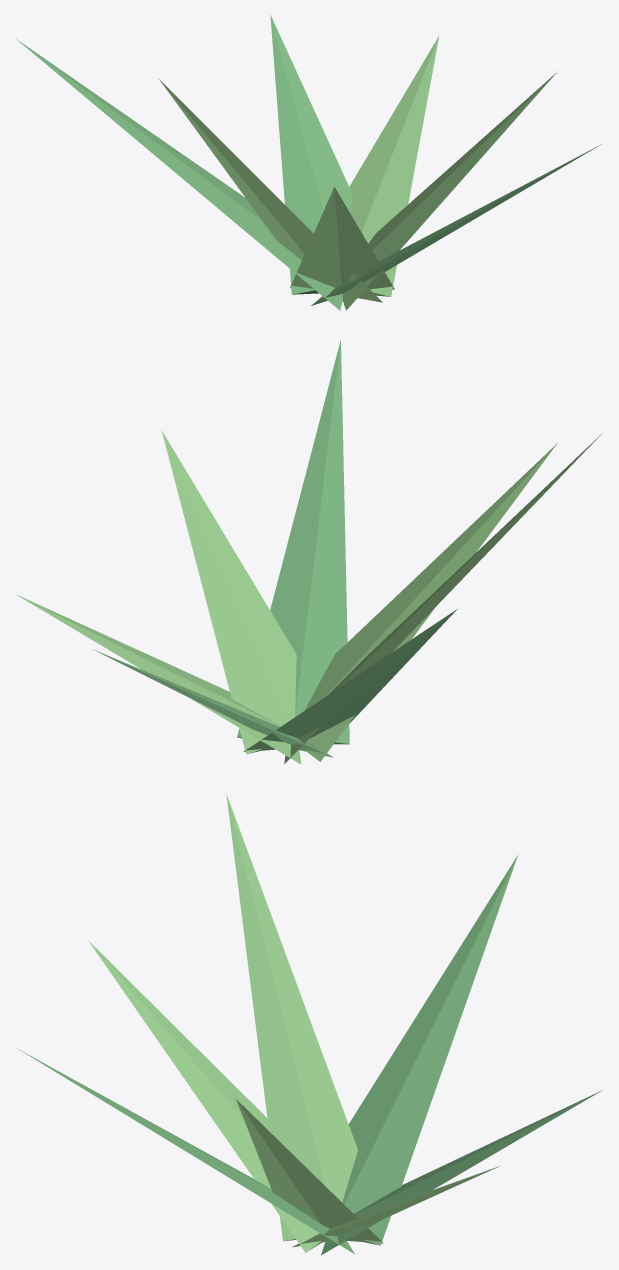
The model's file is samambaia_0.fbx.
3 views of the same model, one above another, from view 1: azimuth 30°, elevation 25°; view 2: azimuth 150°, elevation 25°; view 3: azimuth 270°, elevation 25° (orthographic). The views are drawn at different scales.
Visible parts, largest first — view 1: samambaia_0~Fronde 0@leafdark, samambaia_0~Fronde 1@fern, samambaia_0~Fronde 6@leafdark, samambaia_0~Fronde 4@fern, samambaia_0~Fronde 2@fern, samambaia_0~Fronde 5@fern, samambaia_0~Fronde 3@leafdark; view 2: samambaia_0~Fronde 3@leafdark, samambaia_0~Fronde 2@fern, samambaia_0~Fronde 4@fern, samambaia_0~Fronde 6@leafdark, samambaia_0~Fronde 1@fern, samambaia_0~Fronde 5@fern, samambaia_0~Fronde 0@leafdark; view 3: samambaia_0~Fronde 5@fern, samambaia_0~Fronde 6@leafdark, samambaia_0~Fronde 4@fern, samambaia_0~Fronde 2@fern, samambaia_0~Fronde 0@leafdark, samambaia_0~Fronde 3@leafdark, samambaia_0~Fronde 1@fern.
Part boxes in pixels (x1,y1,x2,y2): samambaia_0~Fronde 0@leafdark: (270, 14, 352, 294); samambaia_0~Fronde 1@fern: (349, 36, 439, 296); samambaia_0~Fronde 6@leafdark: (15, 38, 342, 310); samambaia_0~Fronde 4@fern: (290, 186, 394, 289); samambaia_0~Fronde 2@fern: (342, 71, 557, 310); samambaia_0~Fronde 5@fern: (158, 78, 382, 302); samambaia_0~Fronde 3@leafdark: (311, 144, 601, 305); samambaia_0~Fronde 3@leafdark: (237, 340, 349, 744); samambaia_0~Fronde 2@fern: (161, 430, 296, 754); samambaia_0~Fronde 4@fern: (304, 443, 557, 761); samambaia_0~Fronde 6@leafdark: (243, 609, 457, 751); samambaia_0~Fronde 1@fern: (15, 594, 301, 764); samambaia_0~Fronde 5@fern: (284, 434, 601, 763); samambaia_0~Fronde 0@leafdark: (92, 649, 333, 757); samambaia_0~Fronde 5@fern: (226, 794, 357, 1241); samambaia_0~Fronde 6@leafdark: (342, 855, 517, 1245); samambaia_0~Fronde 4@fern: (88, 940, 322, 1252); samambaia_0~Fronde 2@fern: (236, 1099, 383, 1243); samambaia_0~Fronde 0@leafdark: (321, 1090, 602, 1255); samambaia_0~Fronde 3@leafdark: (17, 1048, 354, 1254); samambaia_0~Fronde 1@fern: (292, 1166, 499, 1247).
Bounding box in the file's own units: 1.01 × 0.7186 × 1.18.
